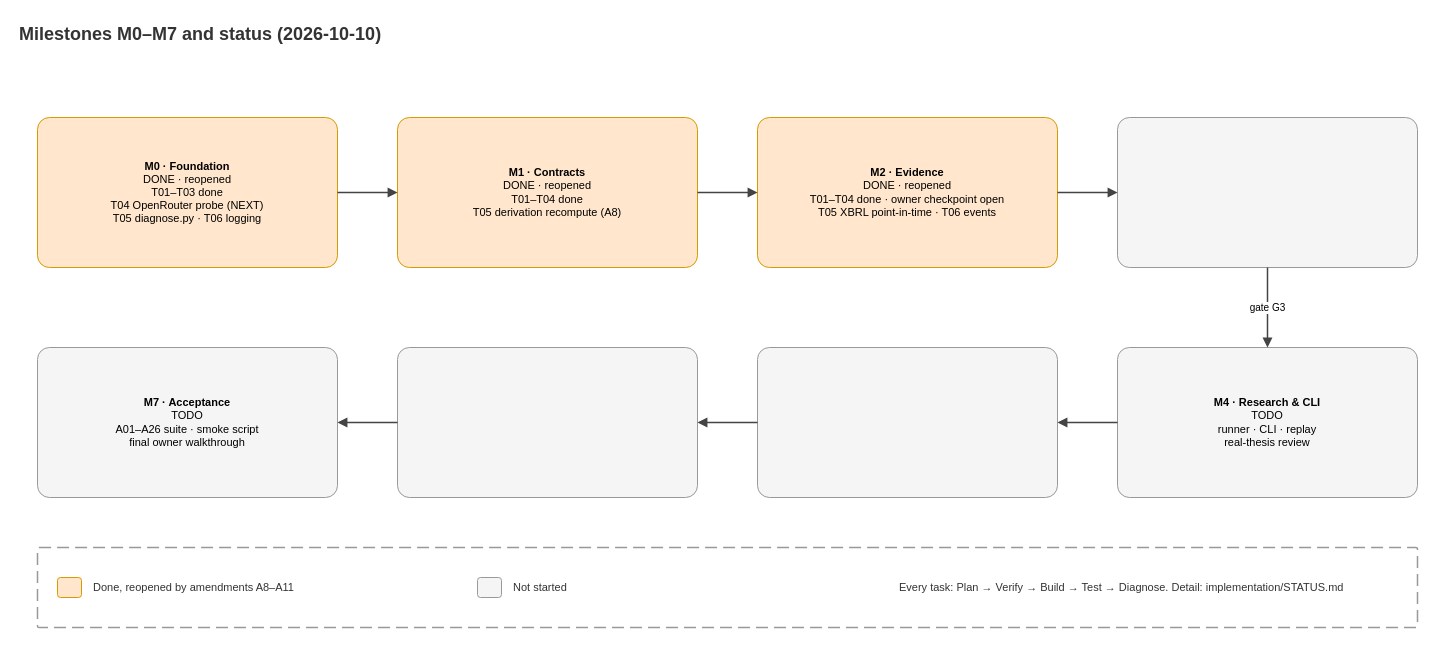
Some shapes in this 1435 by 645 pixel diagram are drawn without their labels. The centre of each missing label's shape, as x and y in pixels:
"M3 · Runtime TODO tools over MCP · model relay Hermes adapter · isolation" belongs at (1267,192).
"M5 · Browser & Obsidian TODO Streamlit · evidence graph export · walkthrough" belongs at (907,422).
"M6 · Evaluation TODO cases & metrics · candidate campaign · report" belongs at (547,422).
